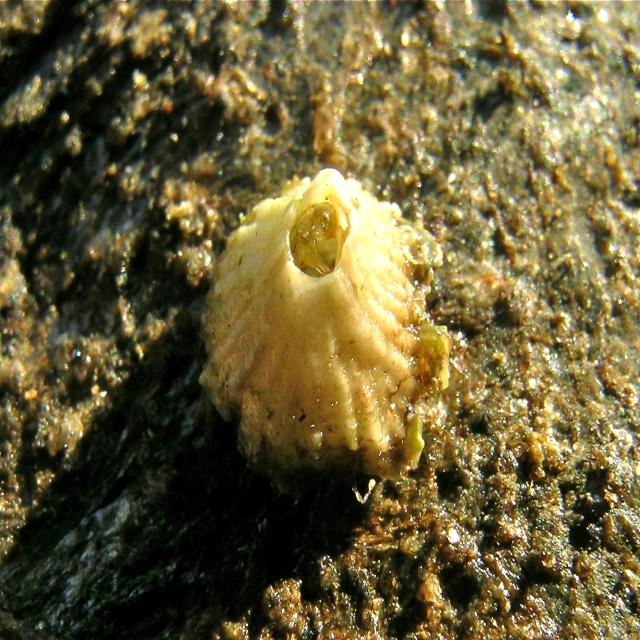barnacles: (190, 162, 442, 494)
